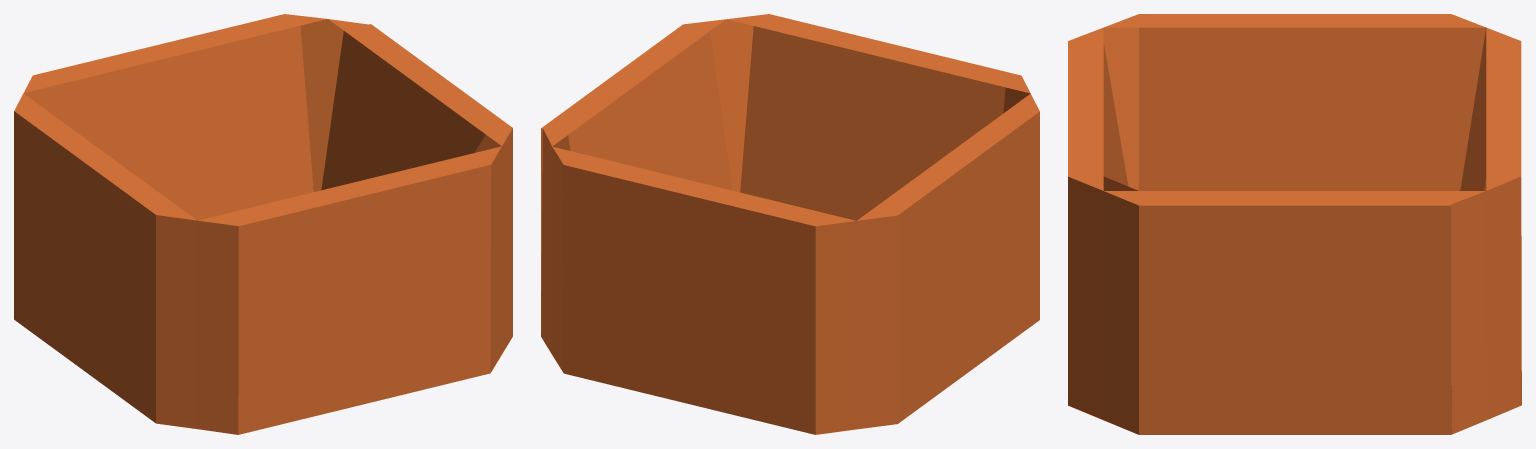
File: collectionBox.fbx
The picture shows the model from 3 angles, left to right: view 1: azimuth 30°, elevation 25°; view 2: azimuth 150°, elevation 25°; view 3: azimuth 270°, elevation 25°; orthographic projection. The views are drawn at different scales.
Visible parts, largest first — view 1: Куб; view 2: Куб; view 3: Куб.
Boxes of the visible parts, x1=… form: Куб: x1=14, y1=14, x2=512, y2=434; Куб: x1=541, y1=14, x2=1039, y2=434; Куб: x1=1068, y1=14, x2=1521, y2=434.
Bounding box in the file's own units: 540 × 302 × 541.
